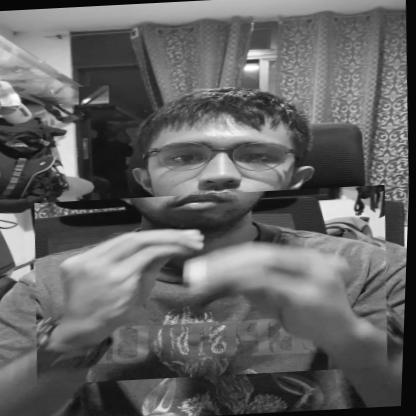Fix: (30, 184, 395, 384), (78, 84, 111, 108)
